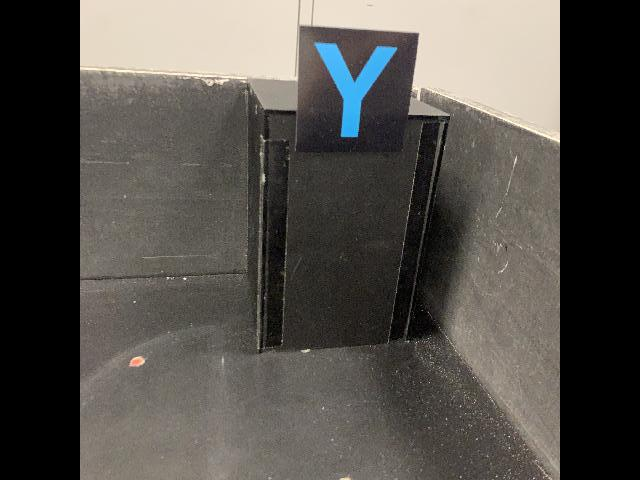y: (294, 23, 421, 154)
